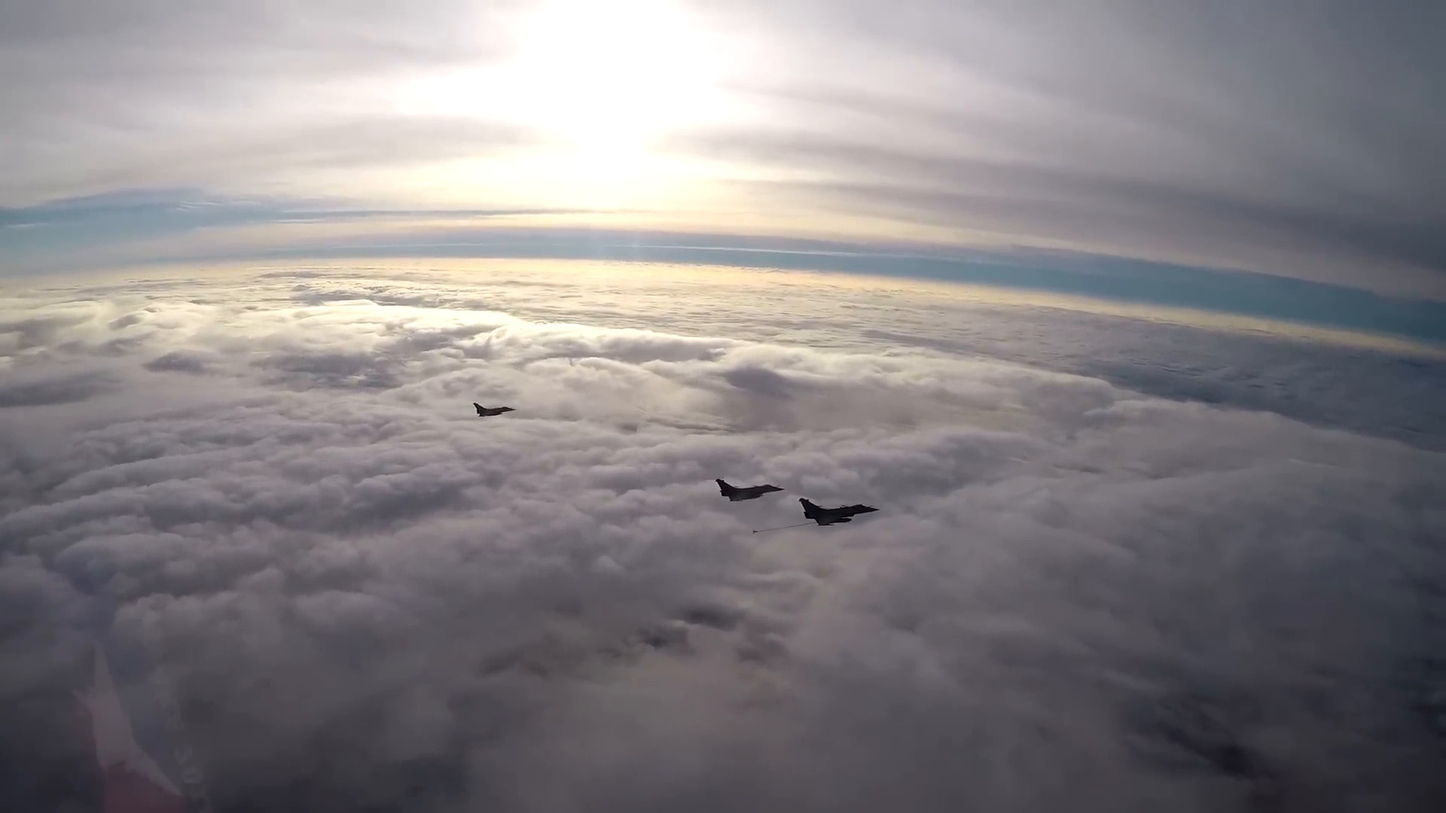Rafale: (799, 497, 881, 526), (714, 478, 784, 502), (472, 401, 515, 418)
